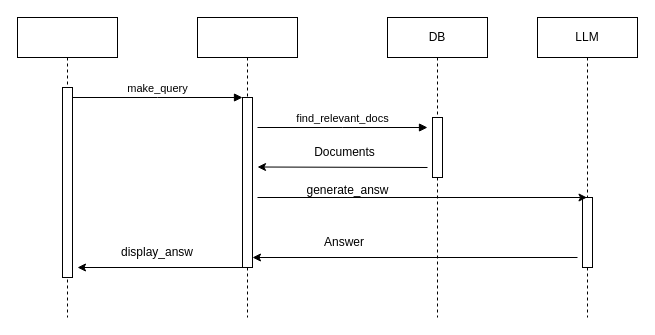
This 655x335 diagram has some shape labels left out. The shapes that lost their labels are listed below. From the top down, each one's box as (x1, y1, x2, y2) in pixels, then its label:
(16, 16, 118, 318): User
(196, 16, 298, 318): App/Website
